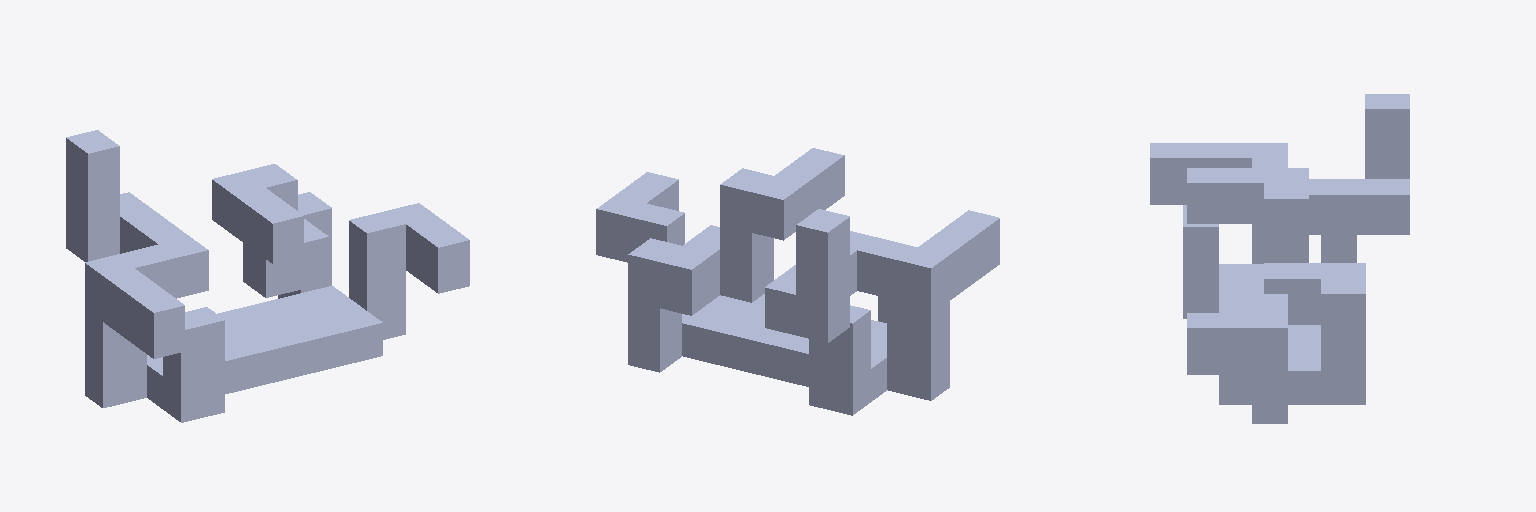
Rendered from Distractor_14.obj.
3 renders of one model, left to right at view 1: azimuth 30°, elevation 25°; view 2: azimuth 150°, elevation 25°; view 3: azimuth 270°, elevation 25°, orthographic.
Visible parts, largest first — view 1: mesh_1_Thick-1; view 2: mesh_1_Thick-1; view 3: mesh_1_Thick-1.
Part boxes in pixels (x1,y1,x2,y2): mesh_1_Thick-1: (66,130,469,422); mesh_1_Thick-1: (596,148,999,415); mesh_1_Thick-1: (1150,94,1409,423).
Size of the model in its own units: 0.19 by 0.11 by 0.128.